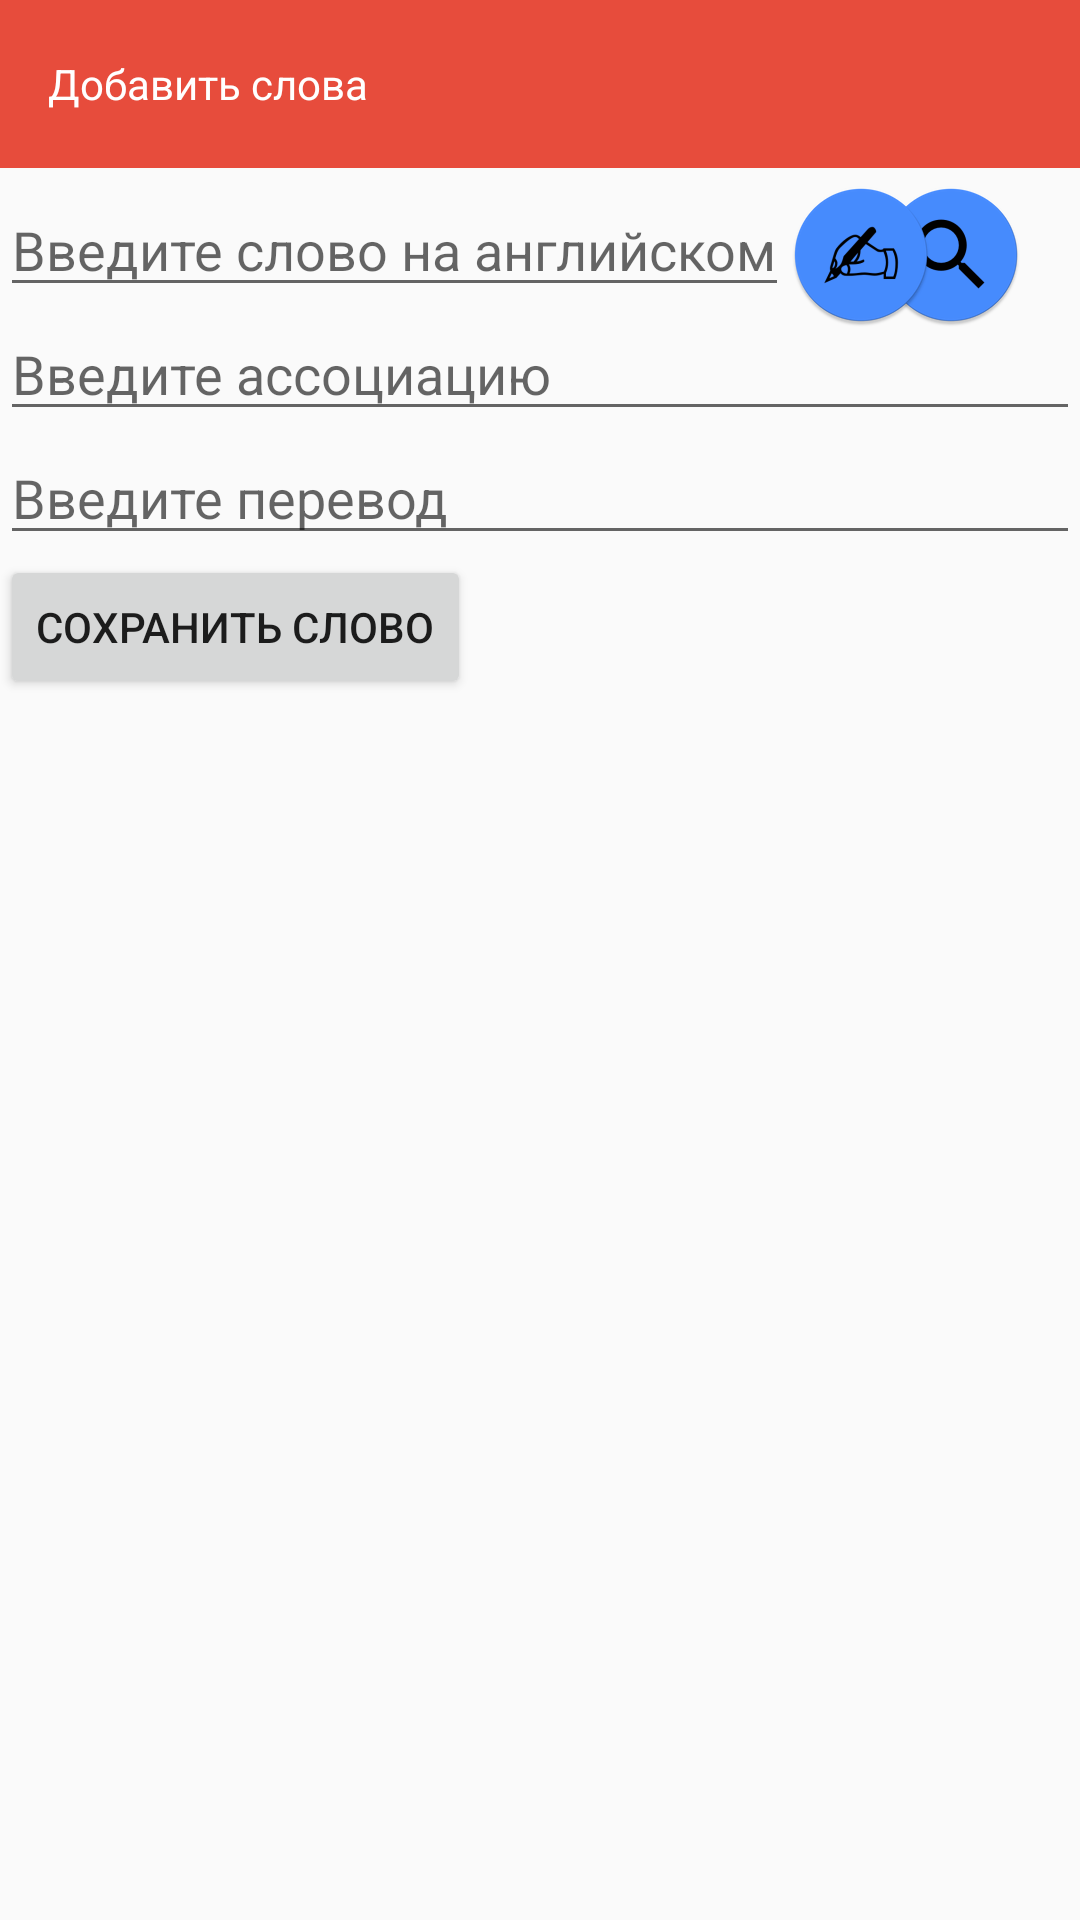

Point at icon controls on the screen. Image size 1080 x 1920, points as (x=x, y=y).
search: (x=948, y=256)
write: (x=863, y=256)
